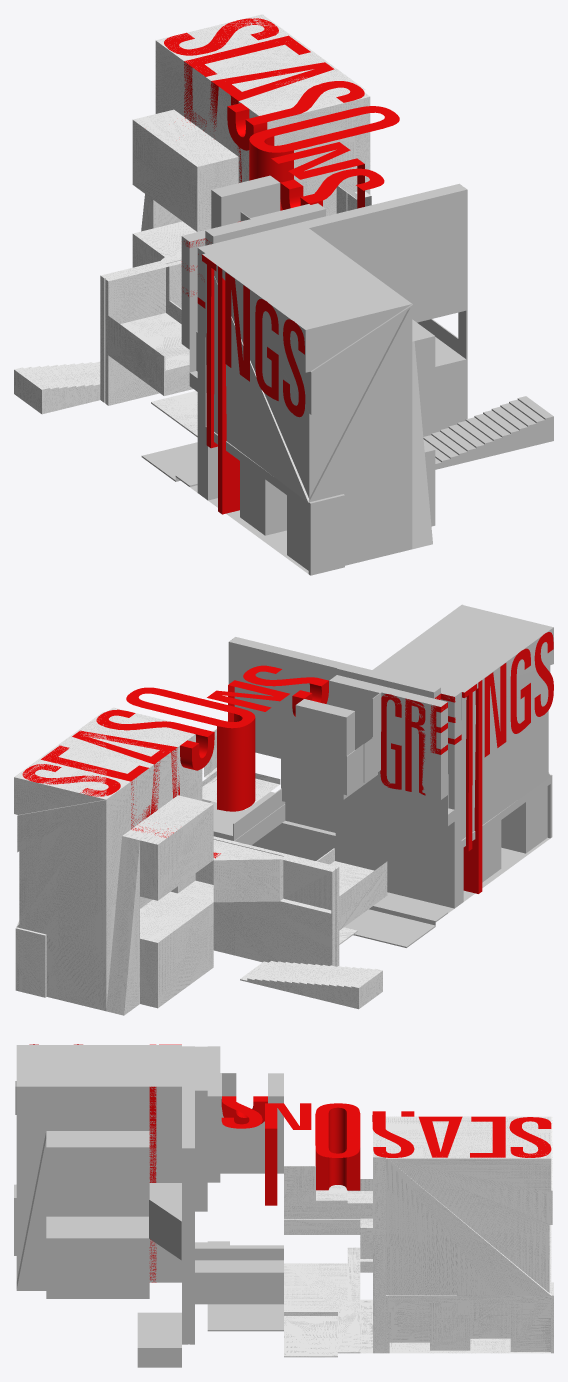
The model's file is csm-5.dae.
The picture shows the model from 3 angles, top to bottom: view 1: azimuth 30°, elevation 25°; view 2: azimuth 150°, elevation 25°; view 3: azimuth 270°, elevation 25°; orthographic projection. The views are drawn at different scales.
Parts seen in each view (by area): view 1: group_6, group_0, group_4, group_13, group_3, group_2, group_1, group_14, group_8, group_5, group_12, group_15 (+2 smaller); view 2: group_0 (×2), group_6, group_4, group_13, group_3, group_2, group_14, group_8, group_5, group_10, group_12, group_1 (+5 smaller); view 3: group_6, group_0 (×2), group_4, group_5, group_8, group_2, group_3, group_13, group_1, group_7.
Boxes of the visible parts, box(x1,y1,x2,y2) form: group_6: box(141, 175, 553, 575); group_0: box(14, 14, 371, 437); group_4: box(249, 106, 399, 210); group_13: box(218, 266, 239, 514); group_3: box(227, 81, 364, 150); group_2: box(210, 62, 334, 182); group_1: box(184, 35, 310, 130); group_14: box(225, 272, 249, 381); group_8: box(280, 168, 384, 209); group_5: box(271, 142, 364, 208); group_12: box(202, 254, 217, 448); group_15: box(255, 299, 278, 400); group_0 (×2): box(14, 707, 387, 1015); group_6: box(202, 604, 553, 947); group_4: box(126, 687, 255, 811); group_13: box(463, 680, 482, 893); group_3: box(96, 709, 214, 770); group_2: box(72, 730, 220, 858); group_14: box(484, 663, 506, 757); group_8: box(243, 665, 328, 716); group_5: box(207, 680, 289, 721); group_10: box(405, 698, 425, 795); group_12: box(462, 684, 476, 851); group_1: box(41, 745, 173, 837); group_6: box(14, 1045, 283, 1367); group_0 (×2): box(284, 1116, 553, 1357); group_4: box(315, 1107, 360, 1190); group_5: box(265, 1103, 311, 1205); group_8: box(221, 1096, 267, 1128); group_2: box(418, 1116, 462, 1157); group_3: box(372, 1111, 414, 1157); group_13: box(149, 1044, 156, 1282); group_1: box(470, 1116, 505, 1157); group_7: box(510, 1129, 551, 1157).
Bounding box in the file's own units: 102 × 167 × 70.28.
